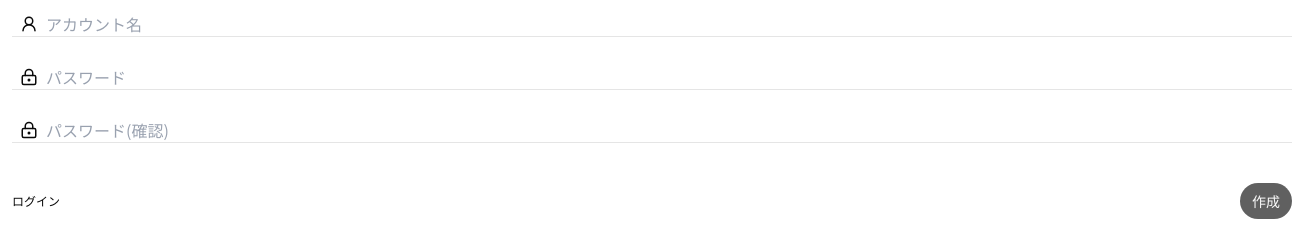
Scenario: Auth/Organisms/SignupForm › shows error when signup fails with error message
In the field with placeholder "アカウント名": [665, 24] box 46,12 -> 1284,36, type "holos"
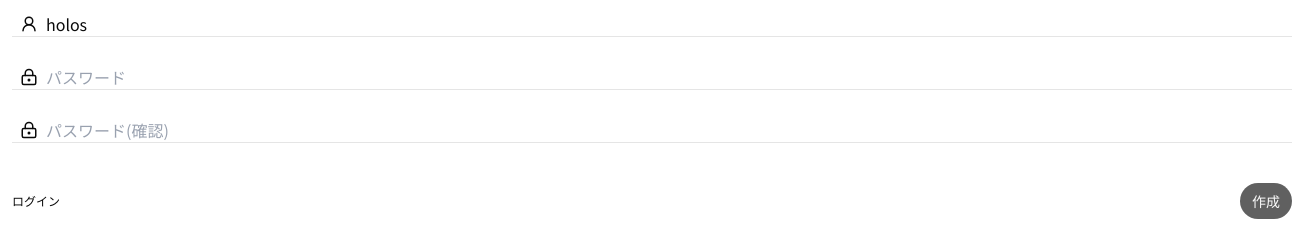
In the password field with placeholder "パスワード": [665, 77] box 46,65 -> 1284,89, type "password"
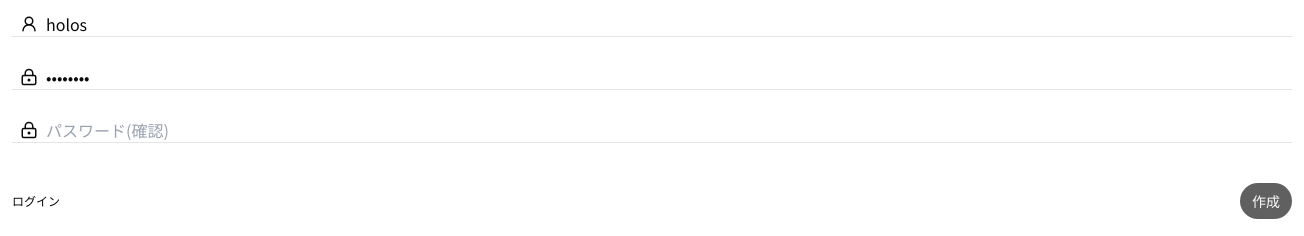
In the password field with placeholder "パスワード(確認)": [665, 130] box 46,118 -> 1284,142, type "password"
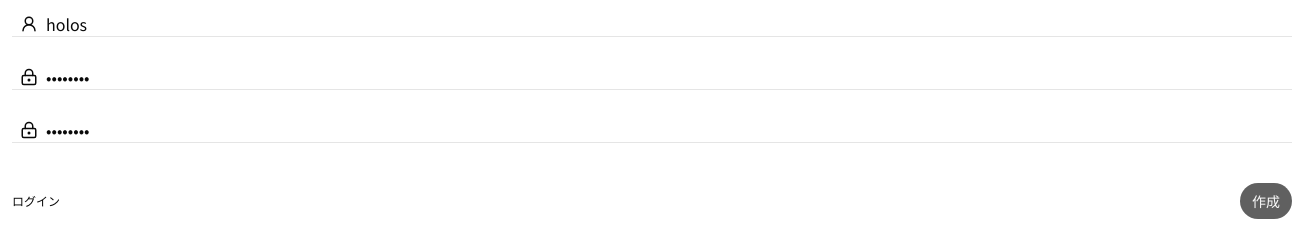
Click the button: [1266, 201] box 1240,183 -> 1292,219
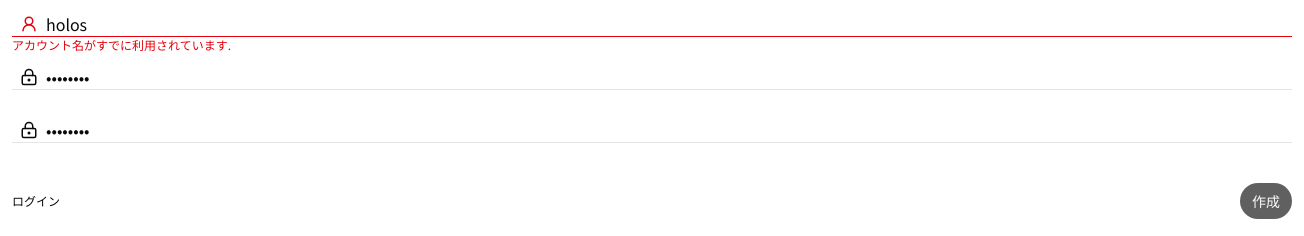
Expected: the text "アカウント名がすでに利用されています." is shown, 12,36 -> 231,53
